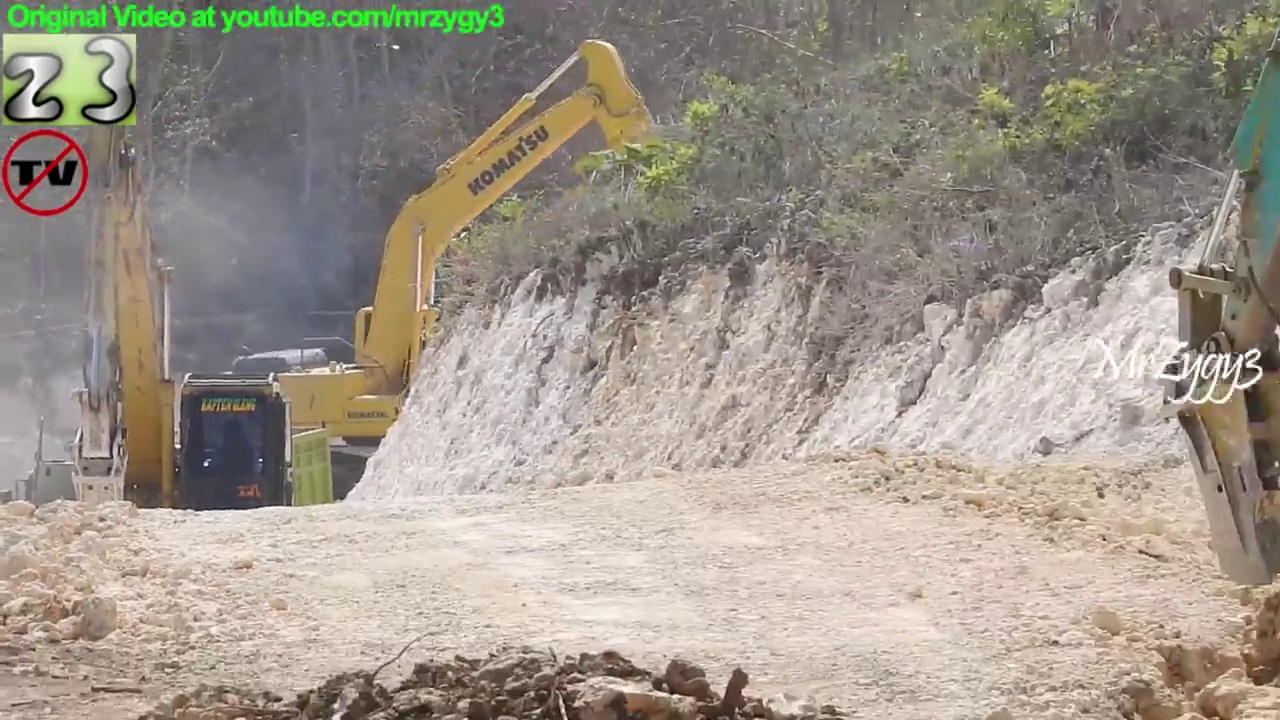excavator: (185, 33, 682, 520), (23, 61, 299, 585), (1158, 17, 1280, 581)
truck: (86, 419, 341, 552)
